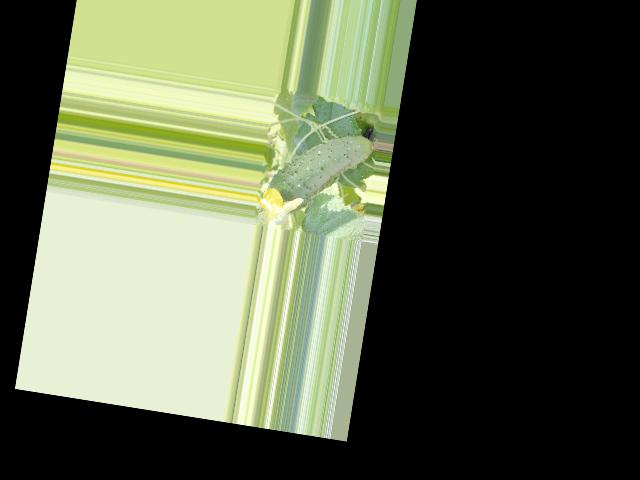cucumber: (265, 122, 379, 224)
